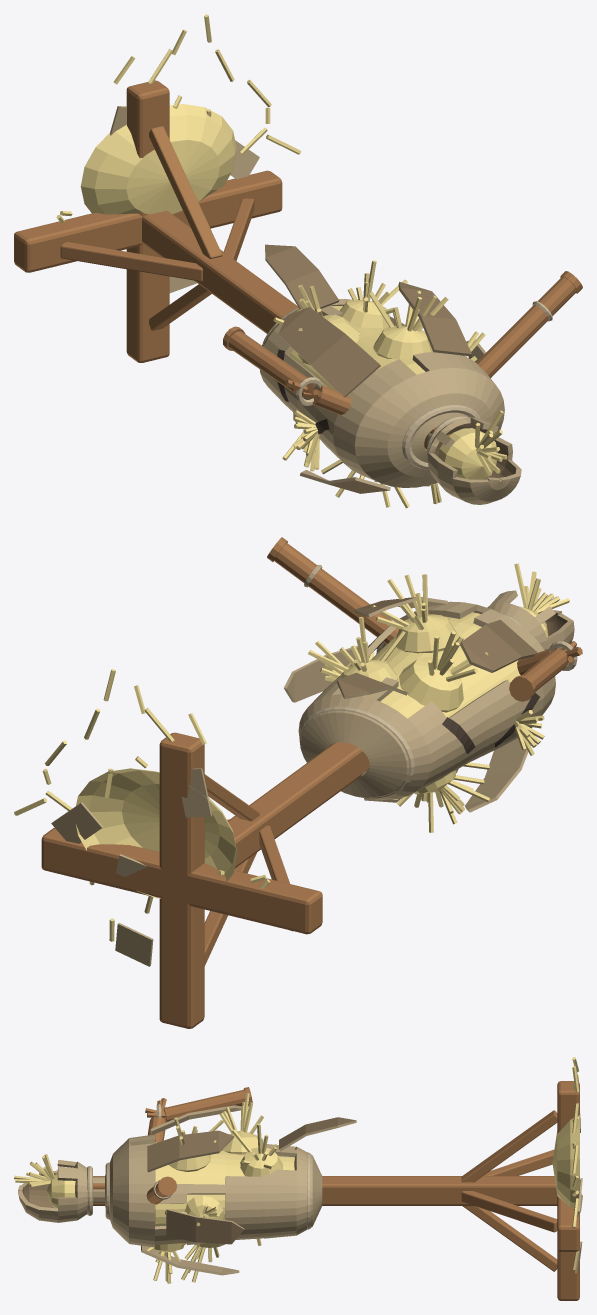
File: dummy2.obj
3 views of the same model, one above another, from view 1: azimuth 30°, elevation 25°; view 2: azimuth 150°, elevation 25°; view 3: azimuth 270°, elevation 25° (orthographic). The views are drawn at different scales.
Size of the model in its own units: 0.8521 by 0.8646 by 1.77.
